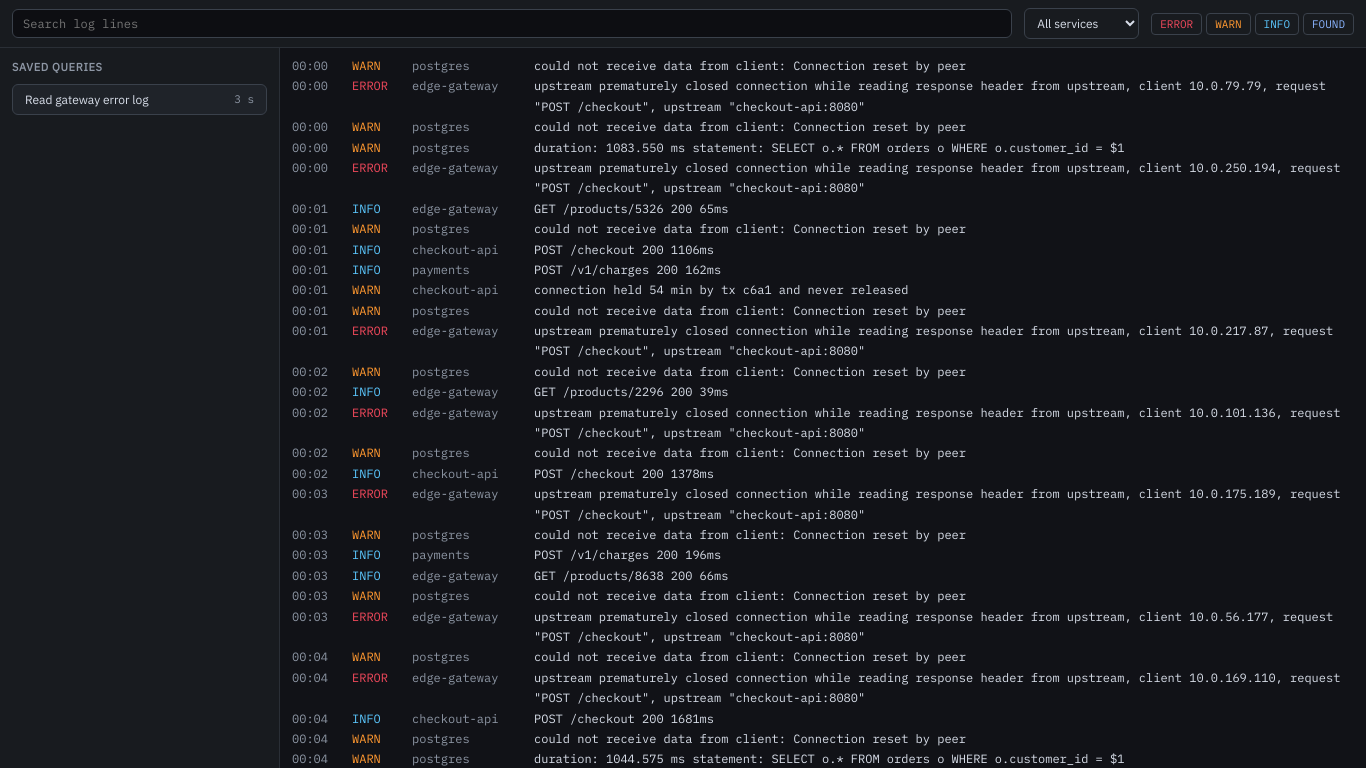
Test case: Logs › runs a saved query, which is the engine action, and filters by service, level and text
Click the button "Read gateway error log 3 s": [140, 99] box 12,84 -> 267,115
Wait 4000 ms
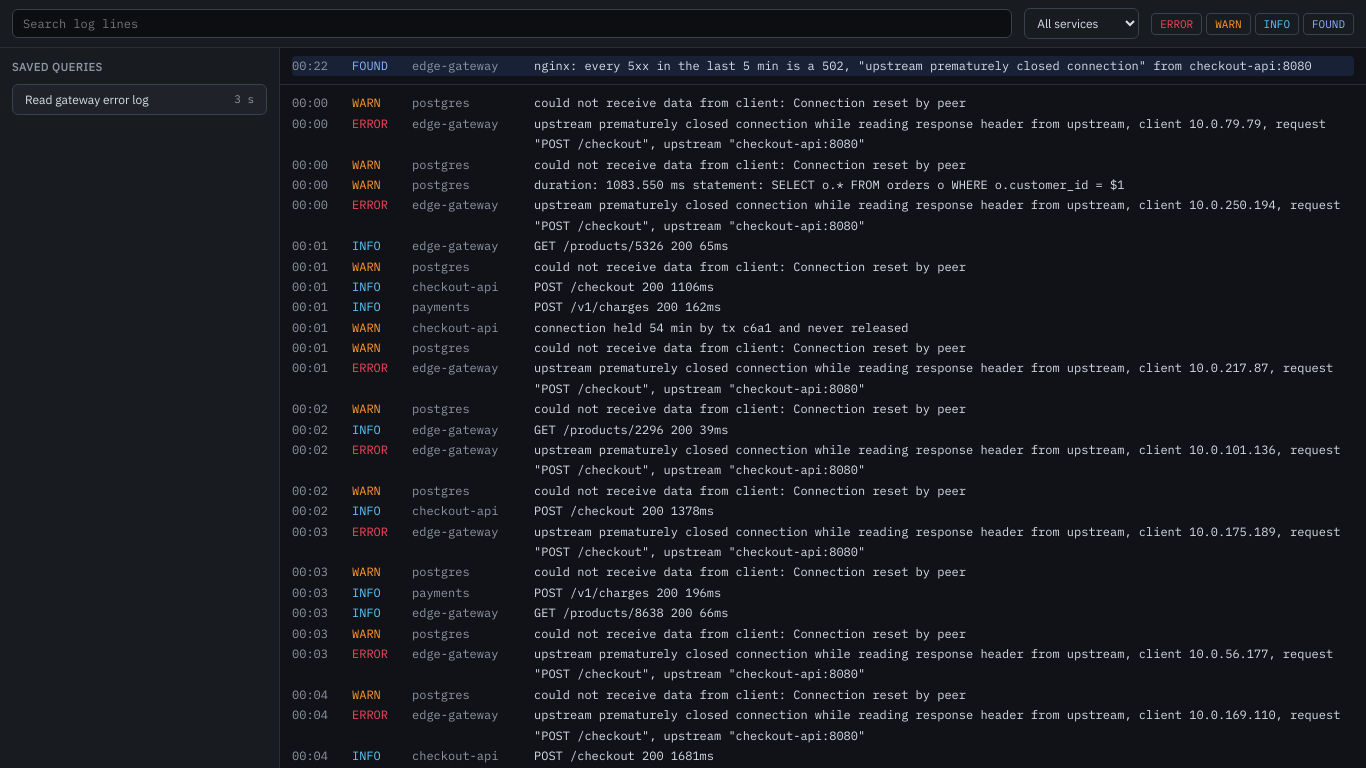
Check: the list named "Pinned findings" shows "upstream prematurely closed", box 534,58 -> 1312,73
Select "postgres" in the dropdown named "Service": [1082, 24] box 1024,8 -> 1139,39
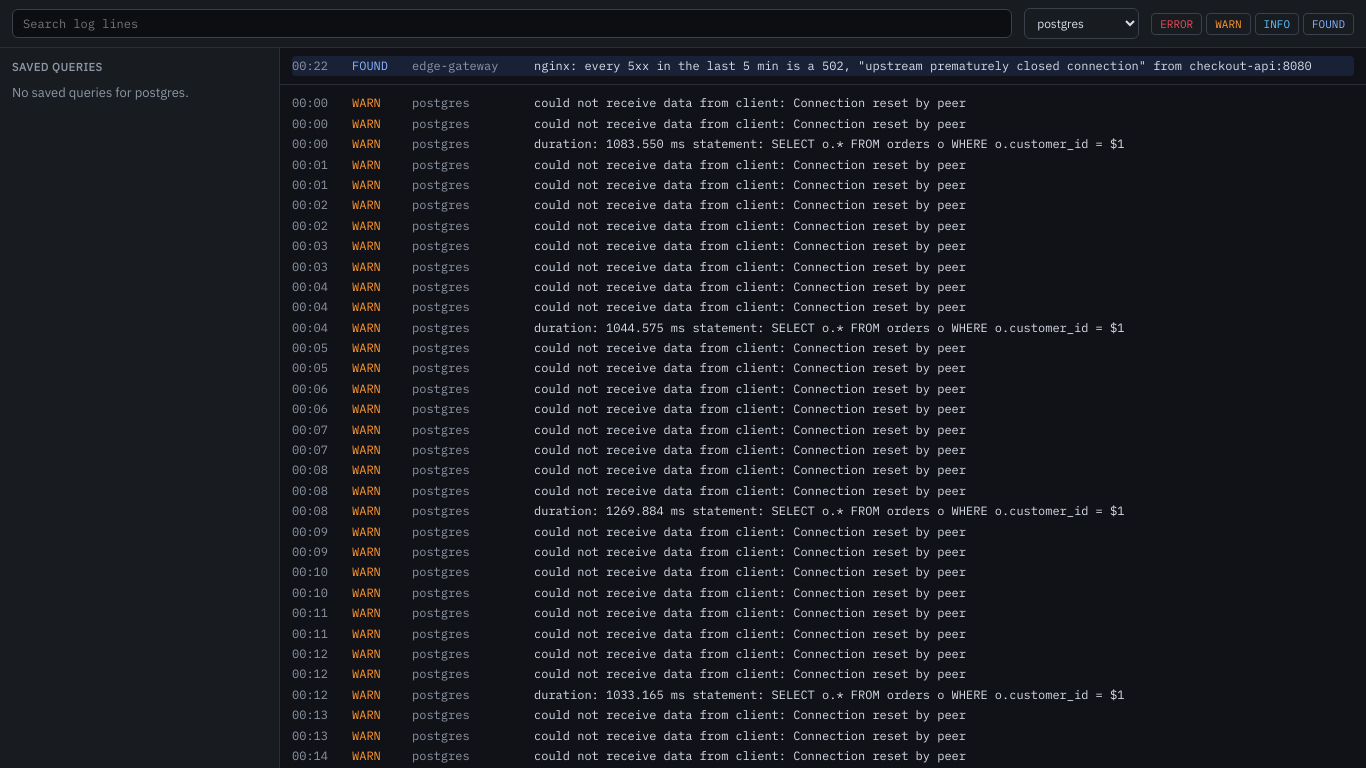
Select "All services" in the dropdown named "Service": [1082, 24] box 1024,8 -> 1139,39
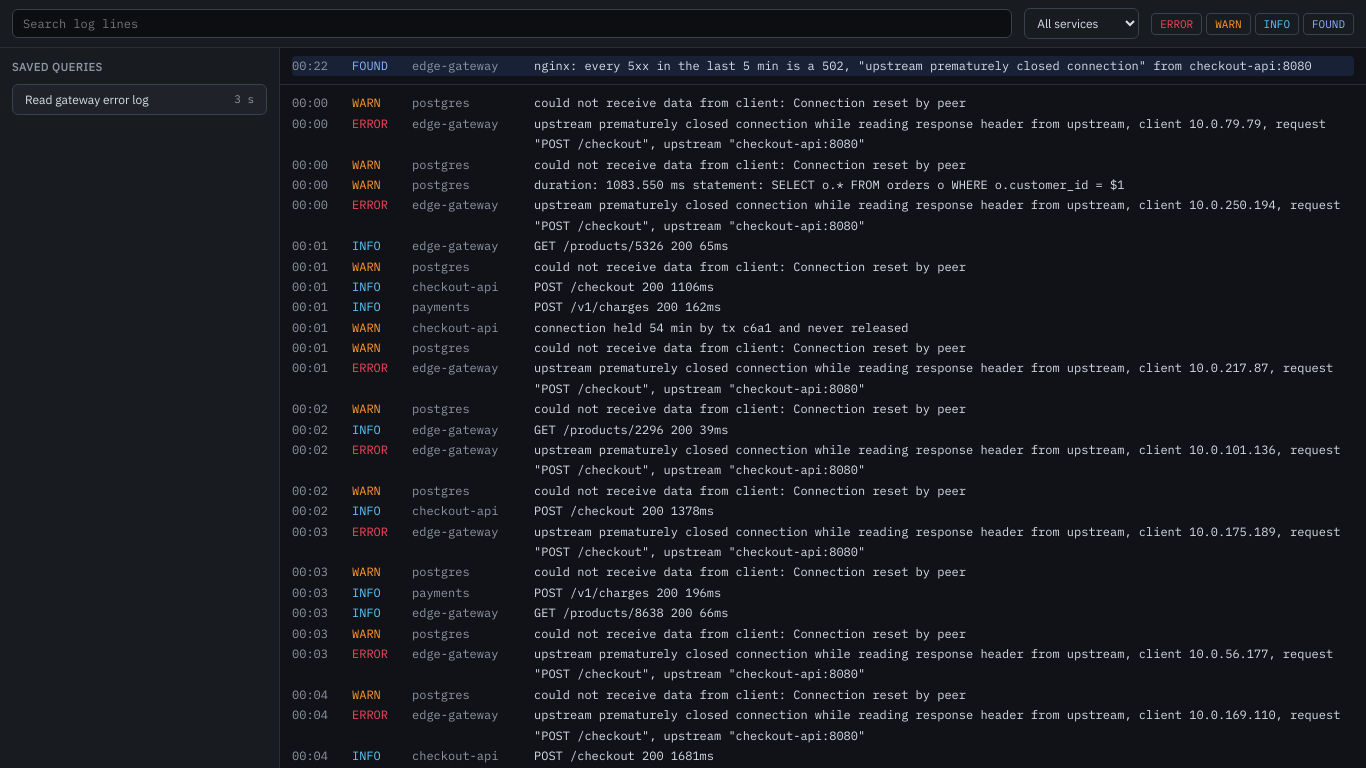
Click the button "INFO": [1277, 24] box 1255,12 -> 1299,34
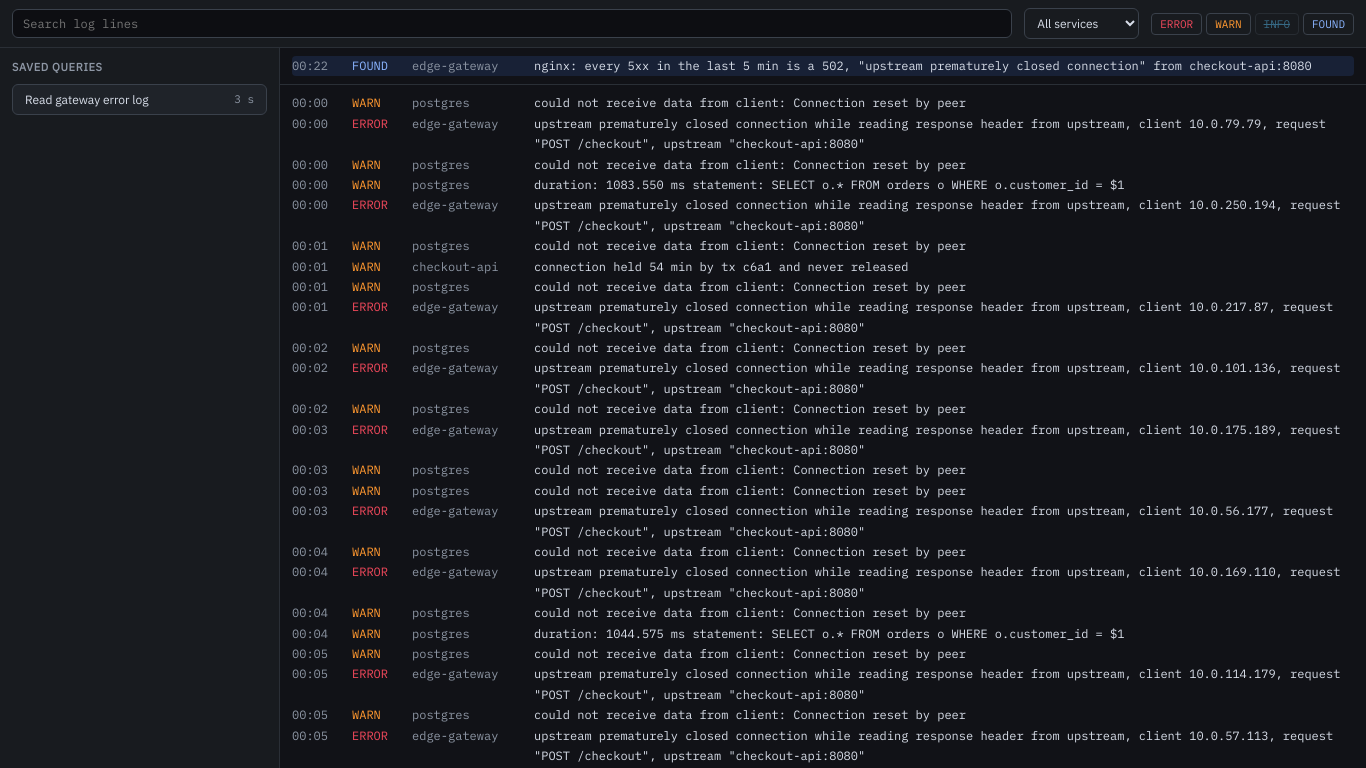
In the search field named "Search logs": [512, 24] box 12,9 -> 1012,38, type "no such text anywhere"
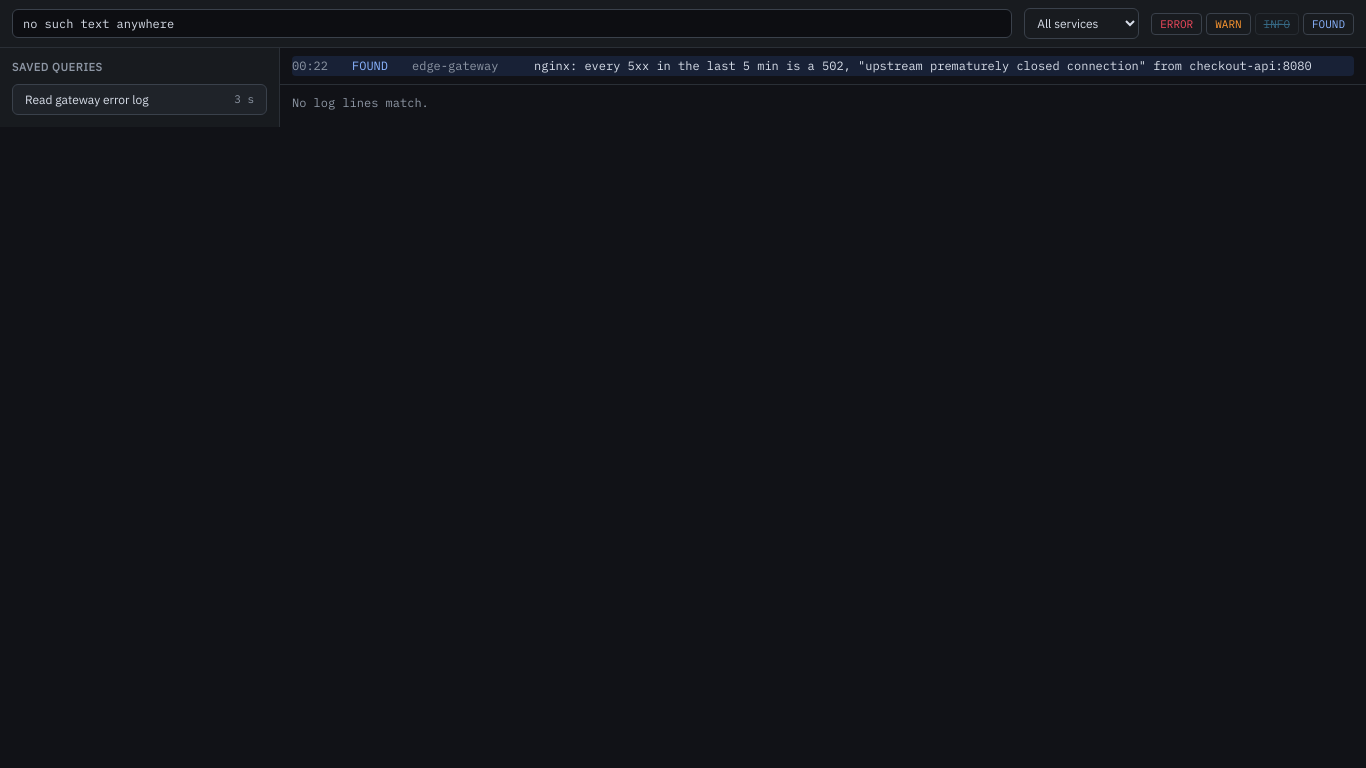
Check: the list item "No log lines match." is shown, box 292,95 -> 429,110
